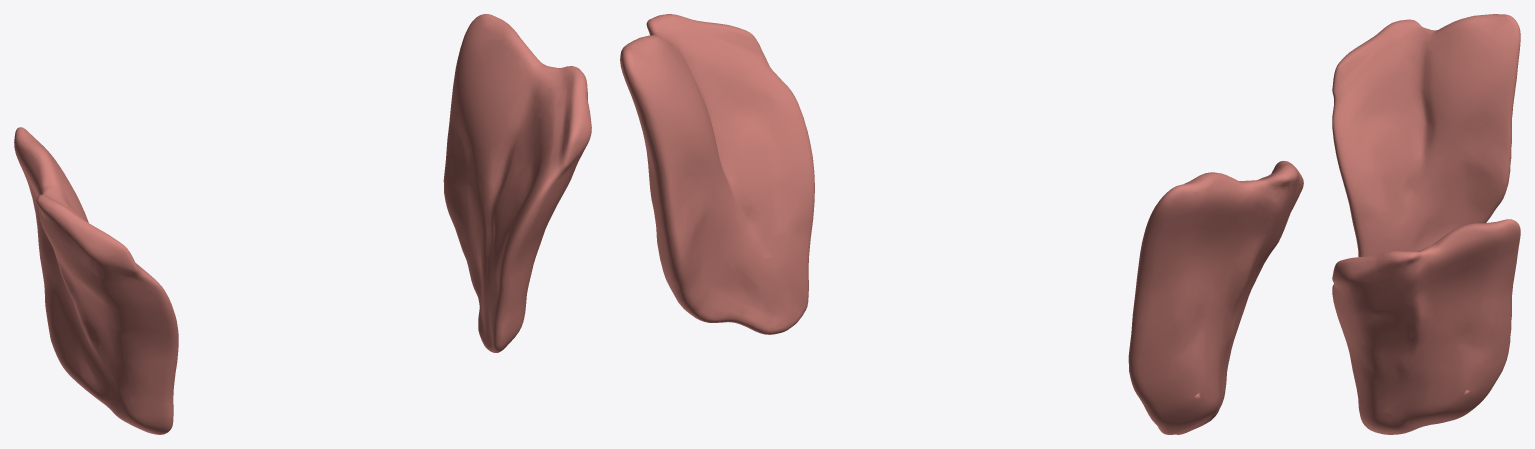
File: masseter_lod1.glb
3 views of the same model, side by side, from view 1: azimuth 30°, elevation 25°; view 2: azimuth 150°, elevation 25°; view 3: azimuth 270°, elevation 25° (orthographic). The views are drawn at different scales.
Visible parts, largest first — view 1: masseter_L_lod1, masseter_R_lod1; view 2: masseter_L_lod1, masseter_R_lod1; view 3: masseter_R_lod1, masseter_L_lod1.
Boxes of the visible parts, box(x1,y1,x2,y2) form: masseter_L_lod1: box(443, 14, 591, 352); masseter_R_lod1: box(14, 127, 178, 434); masseter_L_lod1: box(620, 14, 814, 334); masseter_R_lod1: box(1128, 161, 1303, 434); masseter_R_lod1: box(1332, 14, 1520, 256); masseter_L_lod1: box(1332, 219, 1520, 434).
Size of the model in its own units: 0.1347 by 0.064 by 0.0452.
